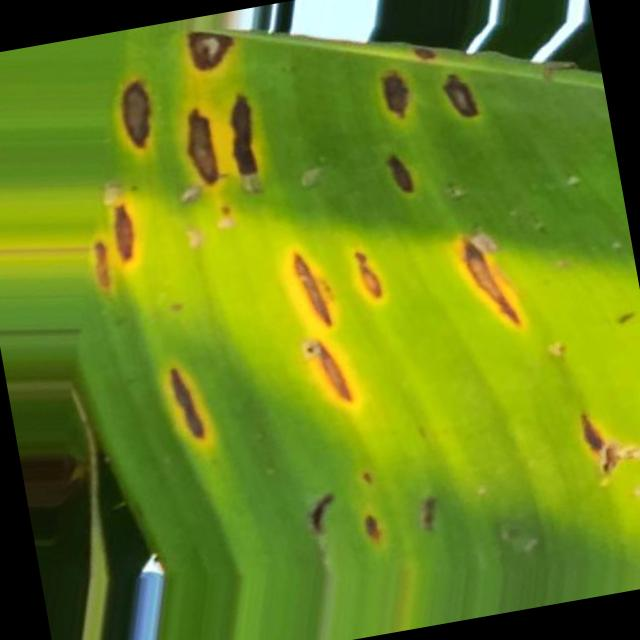Banana_Yellow_Sigatoka: (251, 202, 450, 454), (134, 0, 337, 183), (345, 38, 538, 228), (130, 344, 250, 508), (434, 218, 558, 360), (64, 44, 194, 166), (50, 180, 176, 293), (547, 381, 640, 503)
